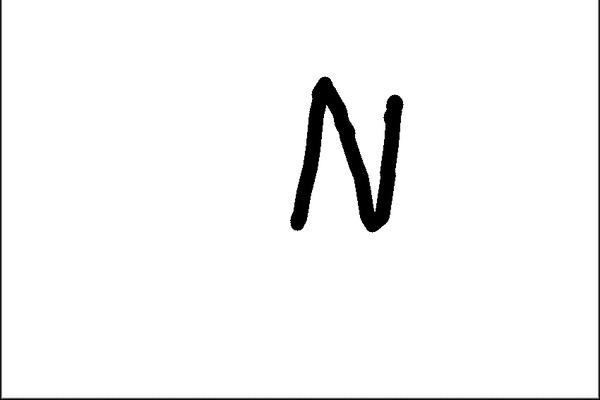N: (287, 72, 408, 236)
